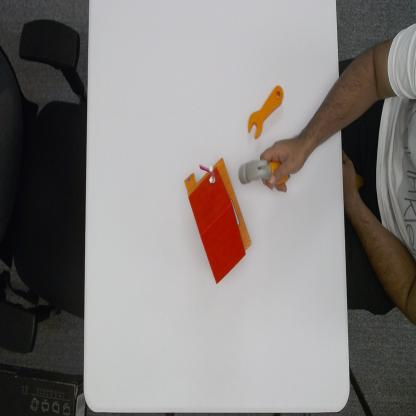Arm: (304, 83, 341, 158)
Hammer: (238, 156, 287, 189)
Hand: (260, 139, 311, 193)
House: (183, 158, 252, 286)
Screwdriver: (246, 82, 285, 141)
